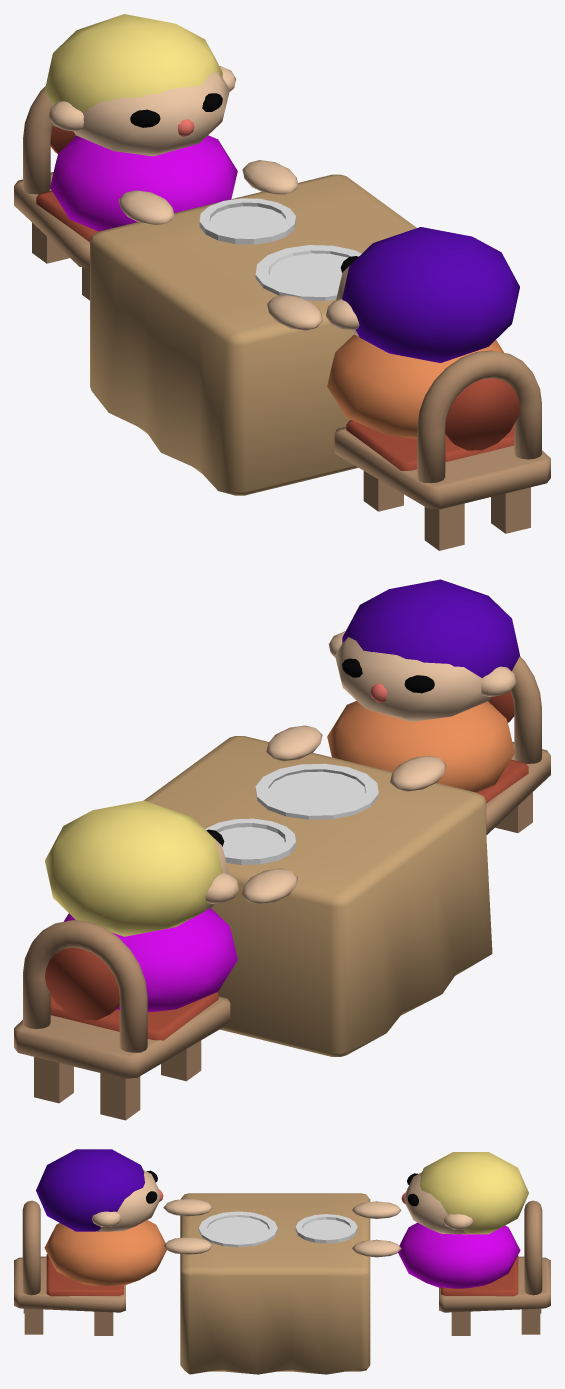
The model's file is RestarauntPeople3.glb.
3 renders of one model, top to bottom at view 1: azimuth 30°, elevation 25°; view 2: azimuth 150°, elevation 25°; view 3: azimuth 270°, elevation 25°, orthographic. The views are drawn at different scales.
Visible parts, largest first — view 1: Cylinder.010; view 2: Cylinder.010; view 3: Cylinder.010.
Boxes of the visible parts, left/top/right/bottom form: Cylinder.010: left=14, top=14, right=550, bottom=550; Cylinder.010: left=14, top=579, right=550, bottom=1120; Cylinder.010: left=14, top=1149, right=550, bottom=1374.
Size of the model in its own units: 3.78 by 3.54 by 9.6.
